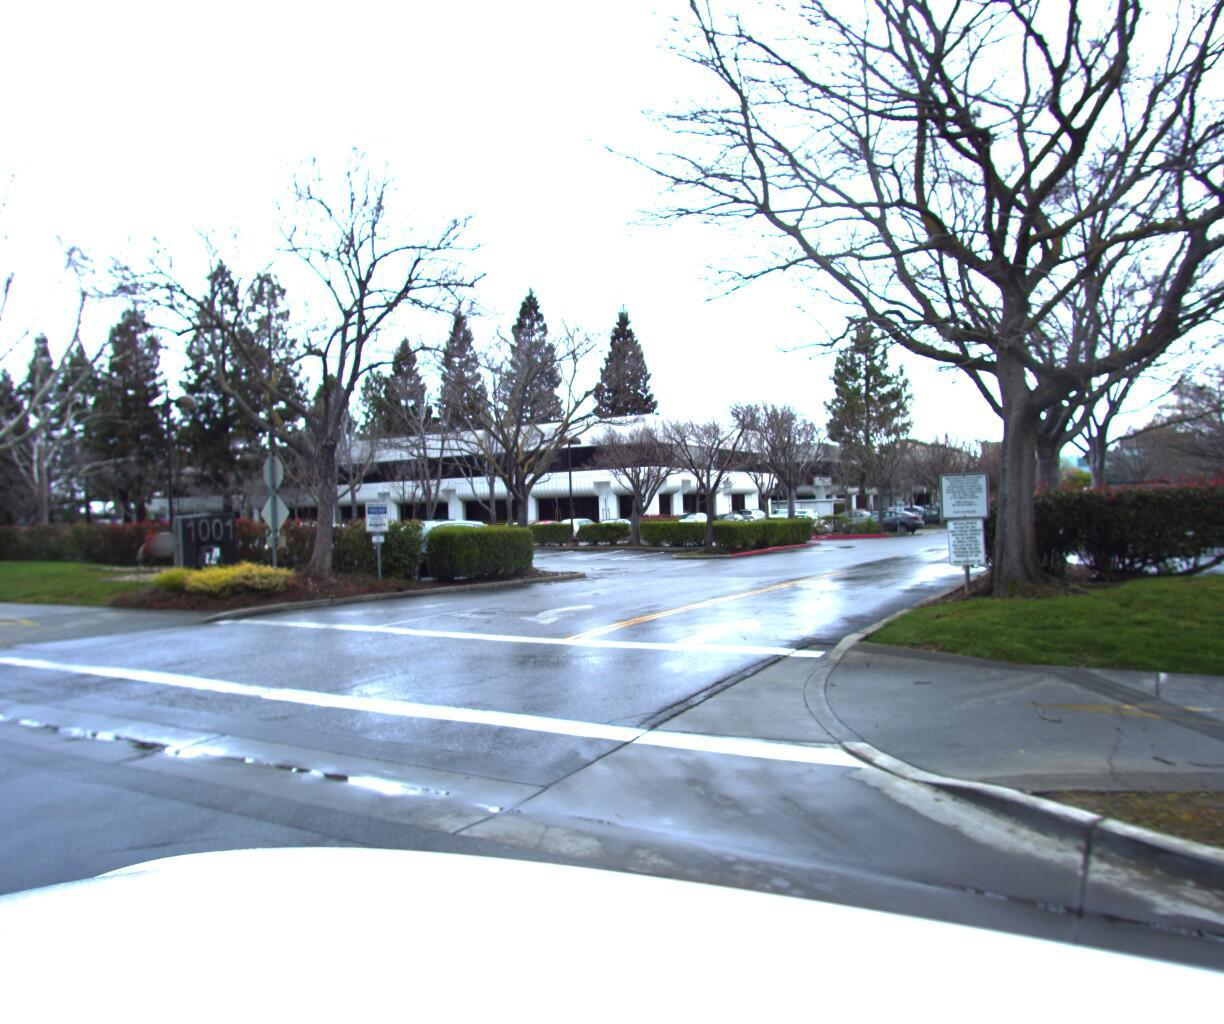car: (1063, 472, 1224, 544), (842, 507, 929, 535)
